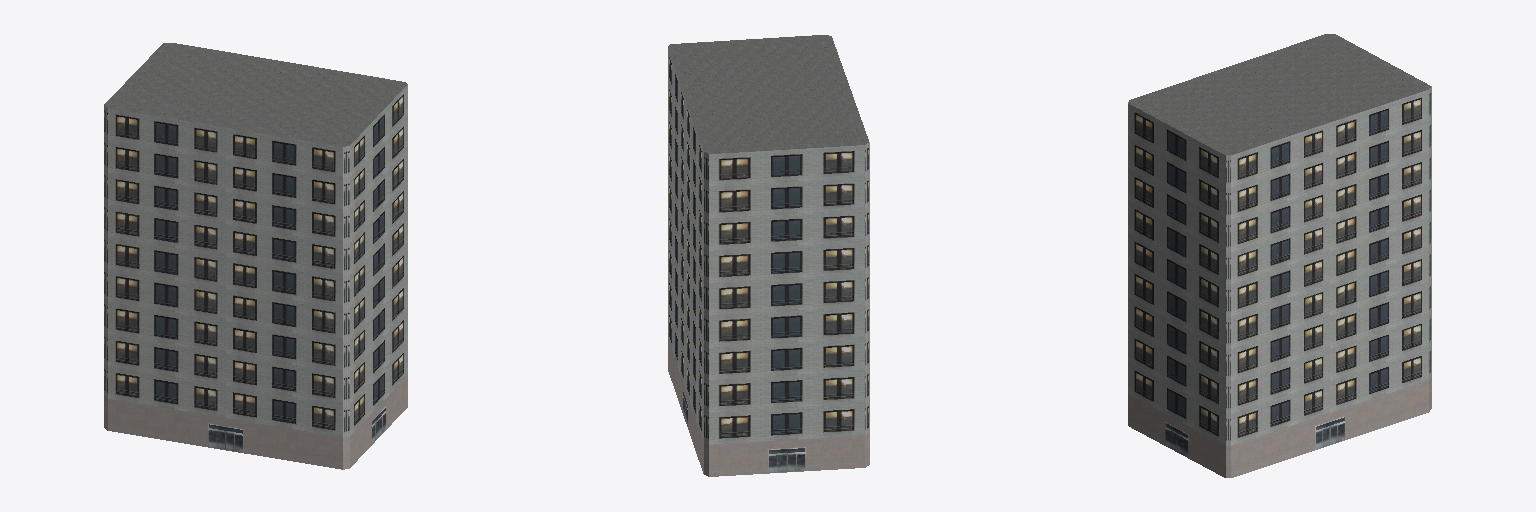
The picture shows the model from 3 angles: view 1: azimuth 30°, elevation 25°; view 2: azimuth 150°, elevation 25°; view 3: azimuth 270°, elevation 25°; orthographic projection.
Parts seen in each view (by area): view 1: BuildingMaster_[number redacted]_0, BuildingMaster_[number redacted]_1; view 2: BuildingMaster_[number redacted]_0, BuildingMaster_[number redacted]_1; view 3: BuildingMaster_[number redacted]_0, BuildingMaster_[number redacted]_1.
Part boxes in pixels (x1,y1,x2,y2): BuildingMaster_[number redacted]_0: (104,85,407,469); BuildingMaster_[number redacted]_1: (104,43,407,146); BuildingMaster_[number redacted]_0: (668,49,869,476); BuildingMaster_[number redacted]_1: (668,35,868,153); BuildingMaster_[number redacted]_0: (1128,86,1431,477); BuildingMaster_[number redacted]_1: (1128,34,1430,154).
Bounding box in the file's own units: 28.32 × 35 × 29.8.
2 materials, 2 textured.